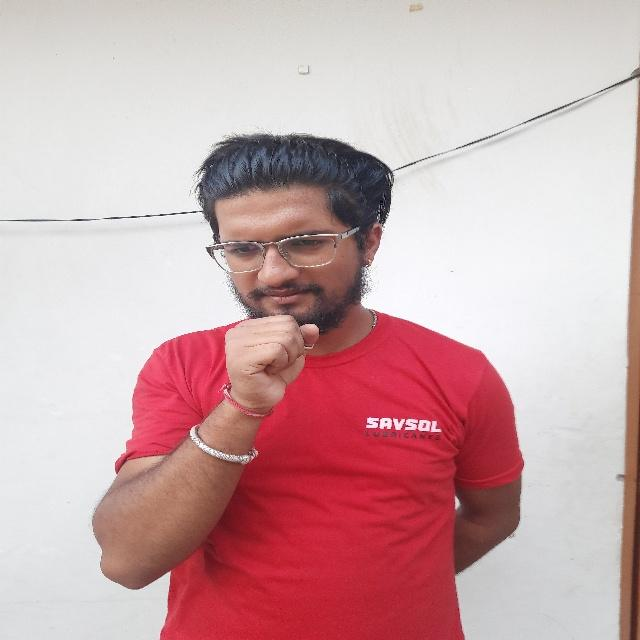Fist Mouth: (188, 128, 382, 418)
